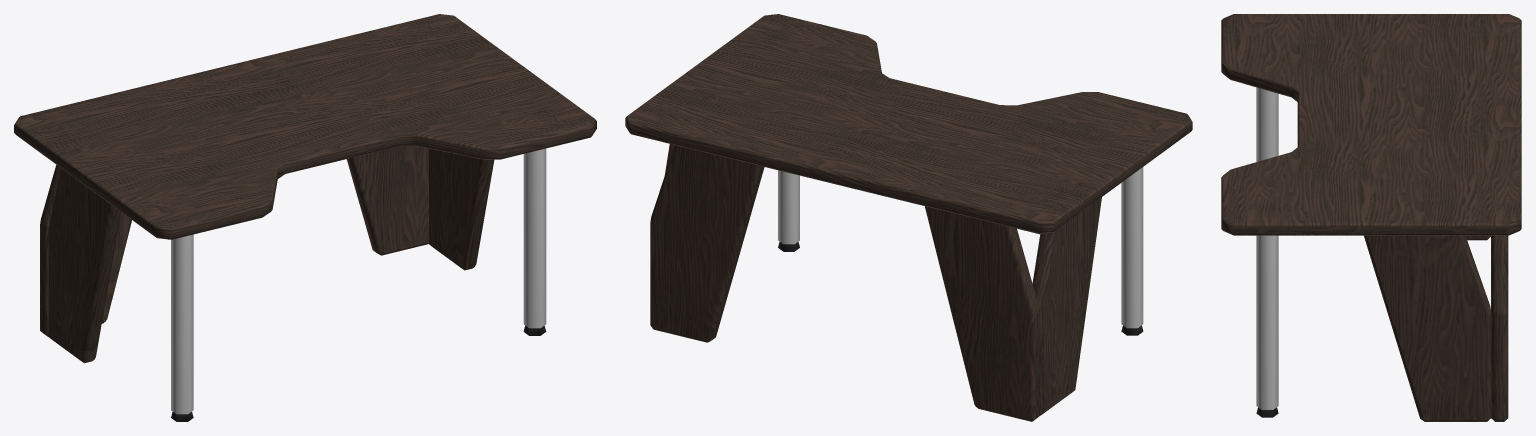
The model's file is work_table_011.fbx.
3 views of the same model, side by side, from view 1: azimuth 30°, elevation 25°; view 2: azimuth 150°, elevation 25°; view 3: azimuth 270°, elevation 25° (orthographic). The views are drawn at different scales.
Visible parts, largest first — view 1: work_table_011; view 2: work_table_011; view 3: work_table_011.
Part boxes in pixels (x1=…): work_table_011: x1=14, y1=14, x2=596, y2=421; work_table_011: x1=625, y1=14, x2=1192, y2=421; work_table_011: x1=1221, y1=14, x2=1521, y2=421.
Size of the model in its own units: 209 by 126 by 97.73.
